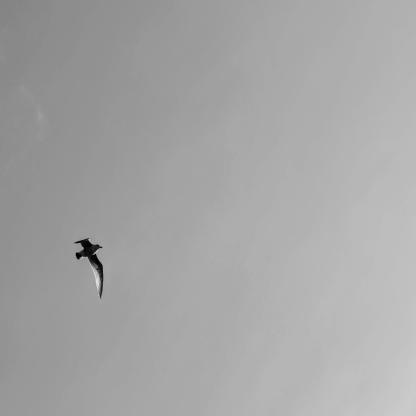bird: (75, 238, 104, 299)
